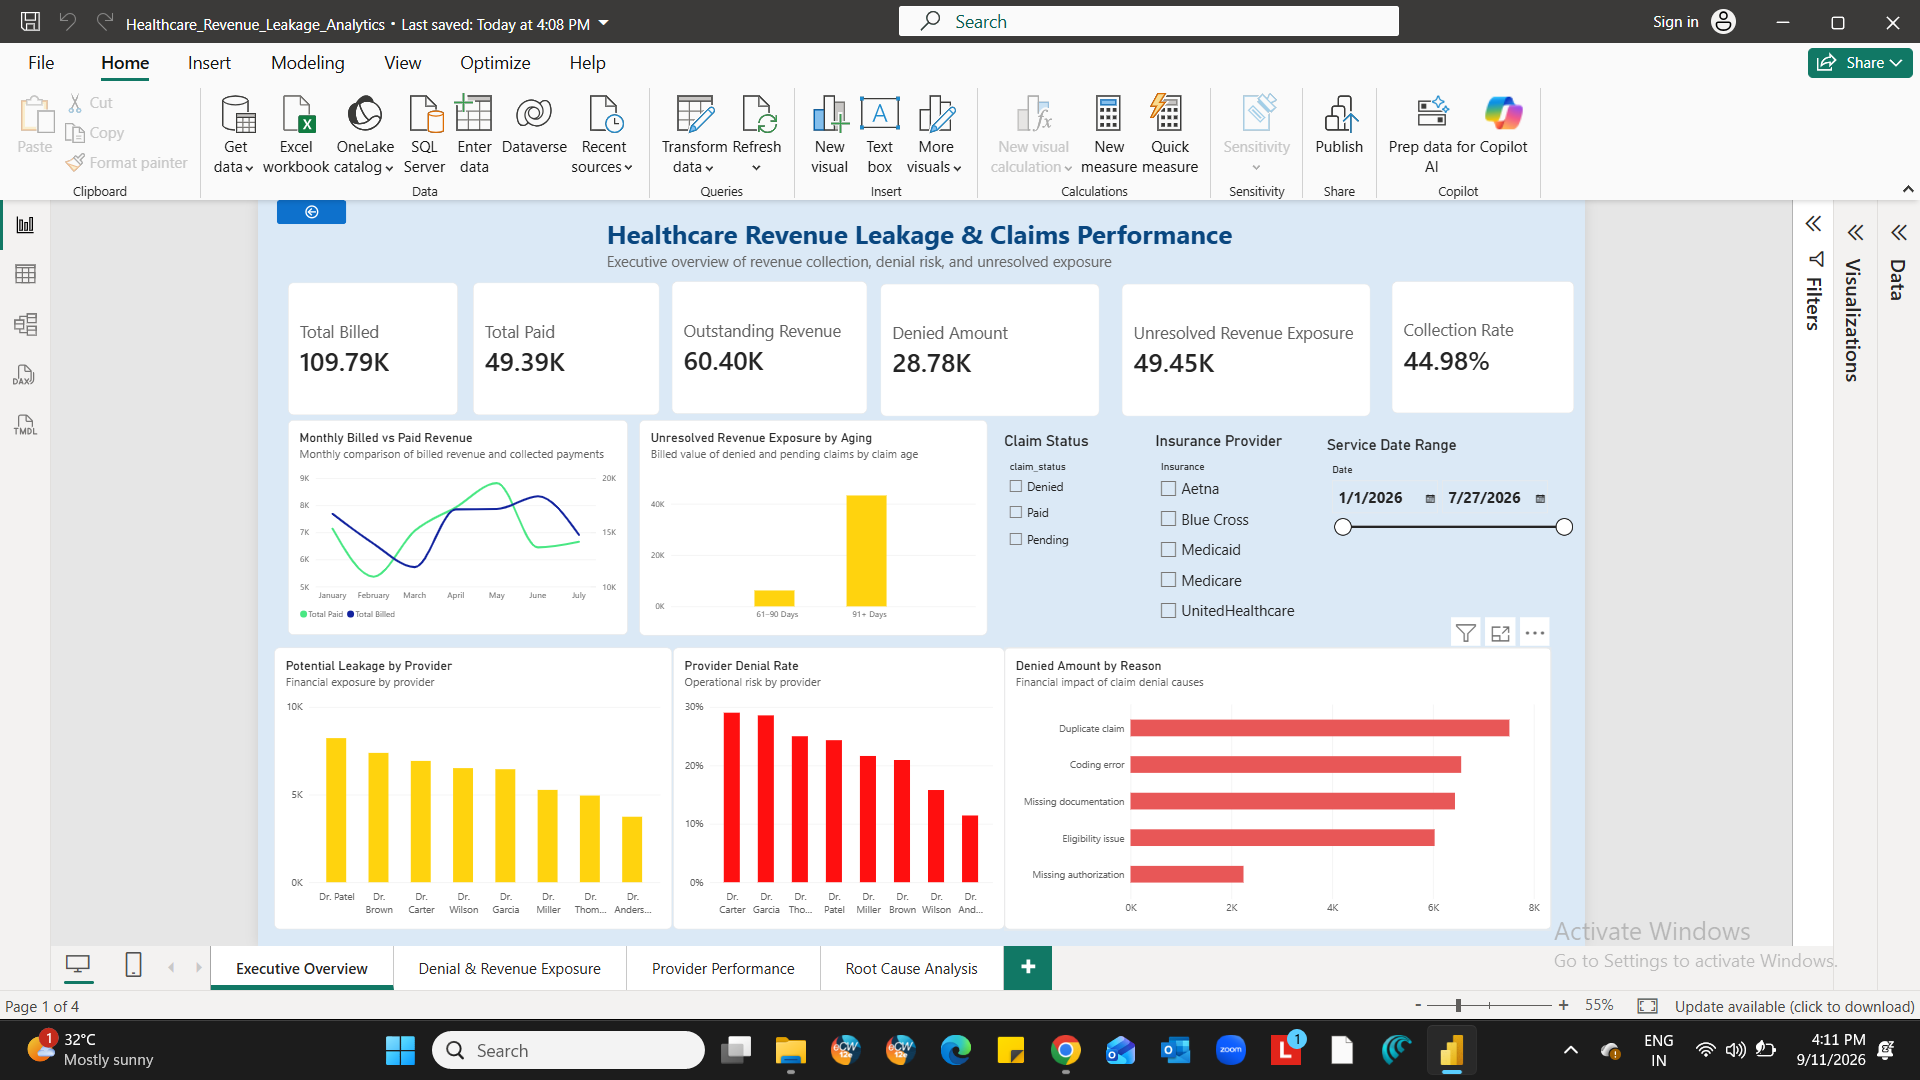

Layout of this report page (visuals, bound fields, positions):
{"tool":"powerbi","page":{"name":"Executive Overview","canvas":[1920,1080],"ordinal":0},"visuals":[{"type":"actionButton","box":[26.8,0,100.9,35],"z":0},{"type":"cardVisual","fields":{"Data":["claims.Total Billed"]},"box":[43,119.6,246.6,192.4],"z":1000},{"type":"cardVisual","fields":{"Data":["payments.Total Paid"]},"box":[312,119.6,270.9,192.4],"z":2000},{"type":"cardVisual","fields":{"Data":["claims.Outstanding Revenue"]},"box":[599.7,117.7,283.9,192.4],"z":3000},{"type":"cardVisual","fields":{"Data":["DateTable.Denied Amount"]},"box":[900.4,121.4,317.6,192.4],"z":4000},{"type":"cardVisual","fields":{"Data":["claims.Collection Rate"]},"box":[1642,117.7,264.2,191.8],"z":5000},{"type":"lineChart","title":"Monthly Billed vs Paid Revenue","fields":{"Category":["DateTable.Date.Variation.Date Hierarchy.Month"],"Y":["payments.Total Paid"],"Y2":["claims.Total Billed"]},"box":[43.4,318.5,492.2,311.3],"z":6000},{"type":"clusteredColumnChart","title":"Potential Leakage by Provider","fields":{"Category":["claims.provider"],"Y":["claims.Potential Leakage"]},"box":[24,648,576,408],"z":7000},{"type":"clusteredBarChart","title":"Denied Amount by Reason","fields":{"Category":["claims.denial_reason"],"Y":["DateTable.Denied Amount"]},"box":[1080,648,792,408],"z":8000},{"type":"clusteredColumnChart","title":"Provider Denial Rate","fields":{"Category":["claims.provider"],"Y":["claims.Denial rate"]},"box":[600,648,480,408],"z":9000},{"type":"clusteredColumnChart","title":"Unresolved Revenue Exposure by Aging","fields":{"Category":["claims.Claim Aging Bucket"],"Y":["claims.Unresolved Exposure by Aging"]},"box":[551.9,318.5,504,312],"z":10000},{"type":"cardVisual","fields":{"Data":["claims.Unresolved Revenue Exposure"]},"box":[1249.7,121.4,360.5,192.4],"z":11000},{"type":"textbox","box":[504,24,1056,96],"z":12000},{"type":"slicer","title":"Claim Status","fields":{"Values":["claims.claim_status"]},"box":[1079.7,336.3,151.3,222.3],"z":13000},{"type":"slicer","title":"Insurance Provider","fields":{"Values":["patients.insurance"]},"box":[1300.2,336.3,226,293.3],"z":14000},{"type":"slicer","title":"Service Date Range","fields":{"Values":["DateTable.Date"]},"box":[1546.8,341.9,360,216],"z":15000}]}

Visuals, with their boxes on the page's 1920x1080 design canvas (x1, y1, x2, y2). These are canvas units, not pixel positions in the 1920x1080 screenshot, which may show the page scaled, cropped or inside an application window:
actionButton: BBox(27, 0, 128, 35)
cardVisual - claims.Total Billed: BBox(43, 120, 290, 312)
cardVisual - payments.Total Paid: BBox(312, 120, 583, 312)
cardVisual - claims.Outstanding Revenue: BBox(600, 118, 884, 310)
cardVisual - DateTable.Denied Amount: BBox(900, 121, 1218, 314)
cardVisual - claims.Collection Rate: BBox(1642, 118, 1906, 310)
"Monthly Billed vs Paid Revenue" lineChart: BBox(43, 318, 536, 630)
"Potential Leakage by Provider" clusteredColumnChart: BBox(24, 648, 600, 1056)
"Denied Amount by Reason" clusteredBarChart: BBox(1080, 648, 1872, 1056)
"Provider Denial Rate" clusteredColumnChart: BBox(600, 648, 1080, 1056)
"Unresolved Revenue Exposure by Aging" clusteredColumnChart: BBox(552, 318, 1056, 630)
cardVisual - claims.Unresolved Revenue Exposure: BBox(1250, 121, 1610, 314)
textbox: BBox(504, 24, 1560, 120)
"Claim Status" slicer: BBox(1080, 336, 1231, 559)
"Insurance Provider" slicer: BBox(1300, 336, 1526, 630)
"Service Date Range" slicer: BBox(1547, 342, 1907, 558)
